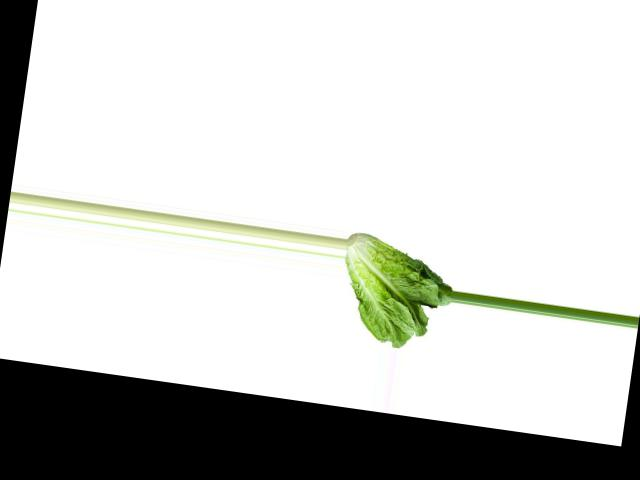lettuce: (334, 230, 456, 355)
